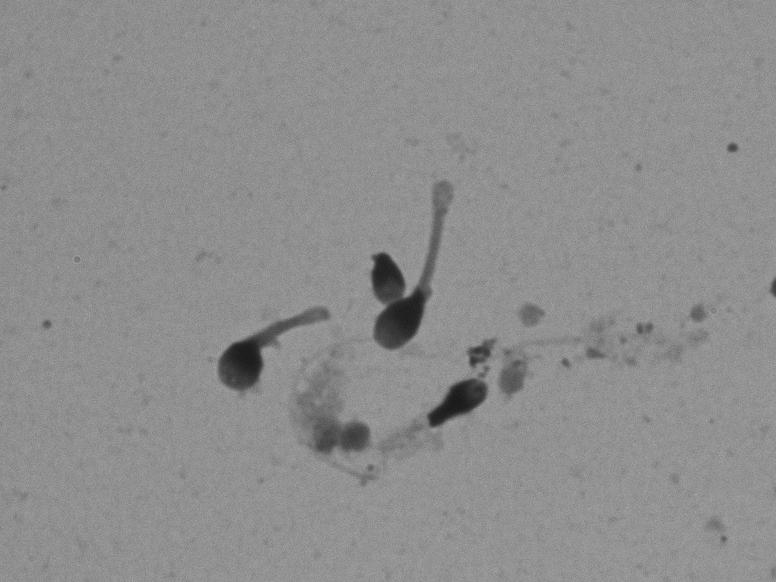Abnormal: (348, 361, 535, 493), (183, 273, 337, 426), (350, 148, 463, 355)
